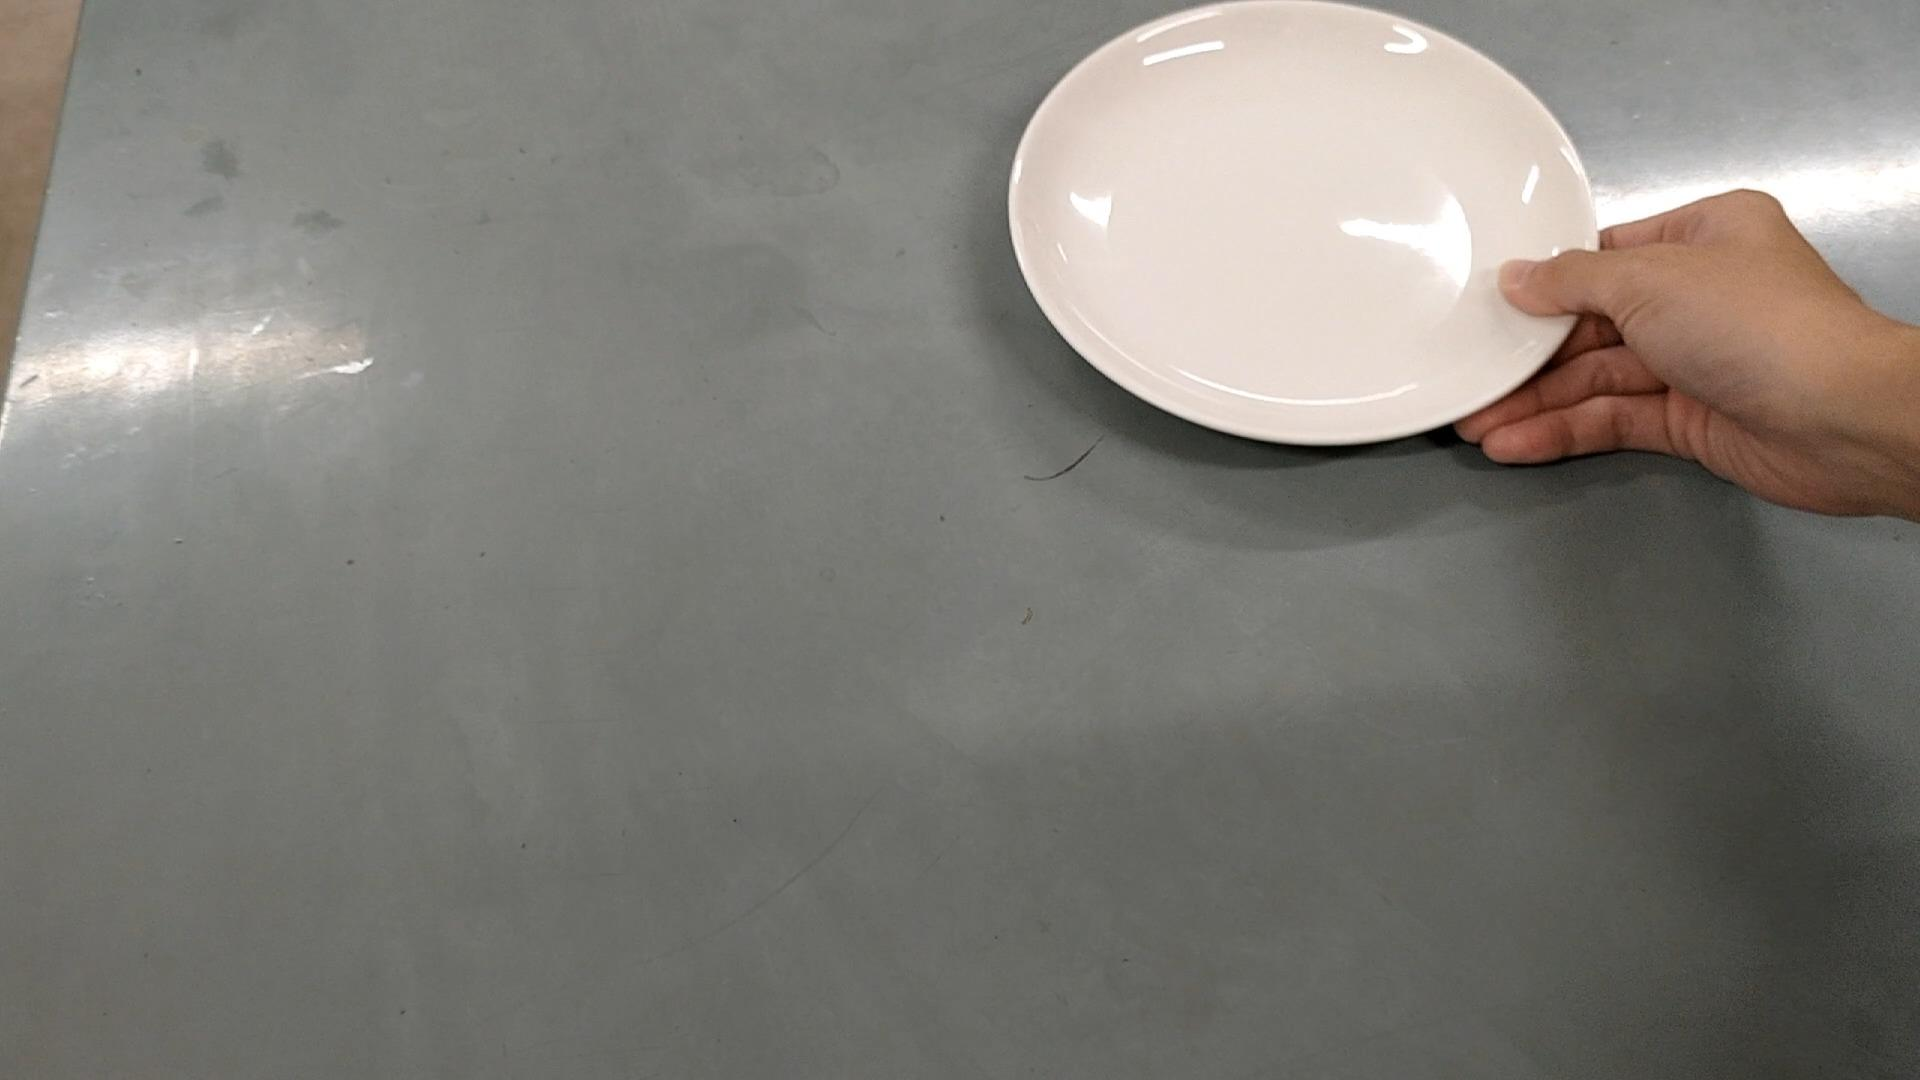plate: (1008, 0, 1603, 450)
